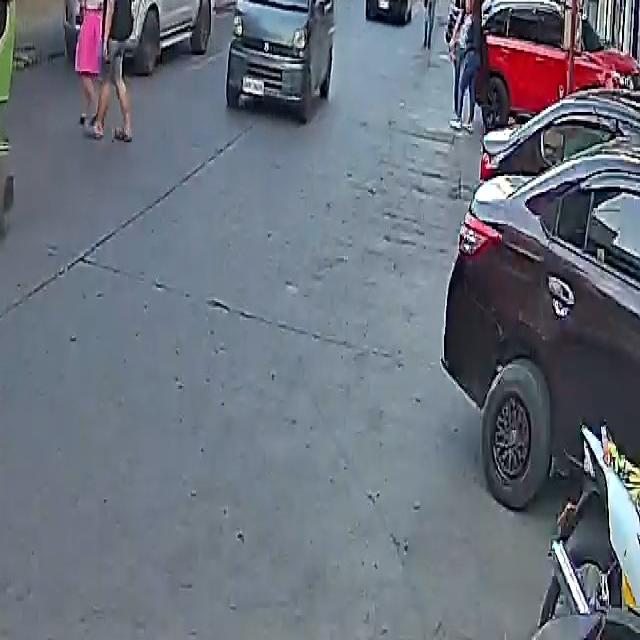car: (443, 78, 640, 529), (470, 0, 639, 130), (225, 0, 340, 110), (73, 0, 223, 71), (365, 0, 411, 20)
